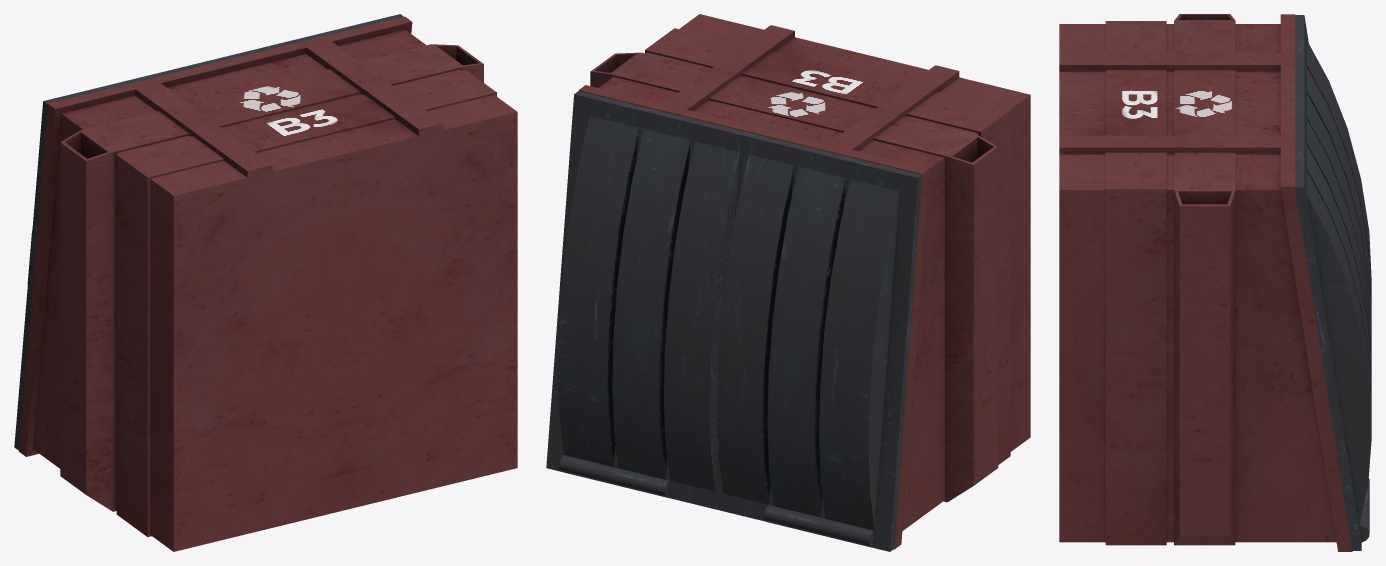
File: dump3.fbx
3 renders of one model, left to right at view 1: azimuth 30°, elevation 25°; view 2: azimuth 150°, elevation 25°; view 3: azimuth 270°, elevation 25°, orthographic. The views are drawn at different scales.
Parts seen in each view (by area): view 1: dump3, dump3_tutup2, dump3_tutup1; view 2: dump3, dump3_tutup2, dump3_tutup1; view 3: dump3, dump3_tutup1, dump3_tutup2.
Boxes of the visible parts, <box> form: dump3: <box>19,16,517,551</box>; dump3_tutup2: <box>14,57,224,450</box>; dump3_tutup1: <box>222,14,403,59</box>; dump3: <box>578,14,1030,549</box>; dump3_tutup2: <box>717,133,921,551</box>; dump3_tutup1: <box>546,91,749,509</box>; dump3: <box>1059,14,1352,551</box>; dump3_tutup1: <box>1295,101,1371,550</box>; dump3_tutup2: <box>1295,15,1371,356</box>.
Bounding box in the file's own units: 234 × 207 × 161.
1 material, 1 textured.
